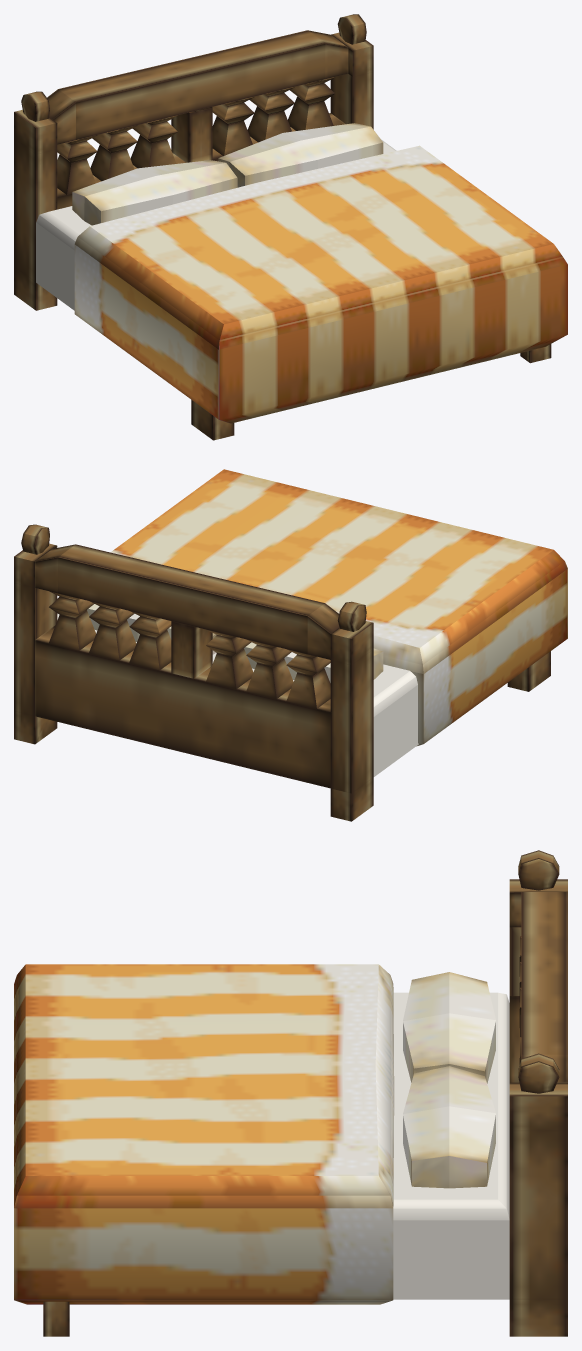
File: Inside_Poly_Bed_03_With_Blanket.obj
The picture shows the model from 3 angles, top to bottom: view 1: azimuth 30°, elevation 25°; view 2: azimuth 150°, elevation 25°; view 3: azimuth 270°, elevation 25°; orthographic projection. The views are drawn at different scales.
Visible parts, largest first — view 1: Cube.006, Cube.002, Cube.005, Cube, Cube.001; view 2: Cube.002, Cube.006, Cube.005, Cube.001, Cube; view 3: Cube.006, Cube.002, Cube.001, Cube, Cube.004.
Part boxes in pixels (x1,y1,x2,y2): Cube.006: (74,145,567,423); Cube.002: (14,14,373,440); Cube.005: (57,77,334,194); Cube: (72,123,383,225); Cube.001: (36,139,396,310); Cube.002: (14,524,550,821); Cube.006: (110,469,567,746); Cube.005: (49,591,330,708); Cube.001: (57,613,418,776); Cube: (87,604,383,682); Cube.006: (14,964,394,1304); Cube.002: (509,850,567,1336); Cube.001: (393,992,509,1299); Cube: (403,972,495,1188); Cube.004: (43,1301,69,1336).
Bounding box in the file's own units: 1.82 × 1.03 × 1.9.
Materials: 1 (1 with a texture image).
